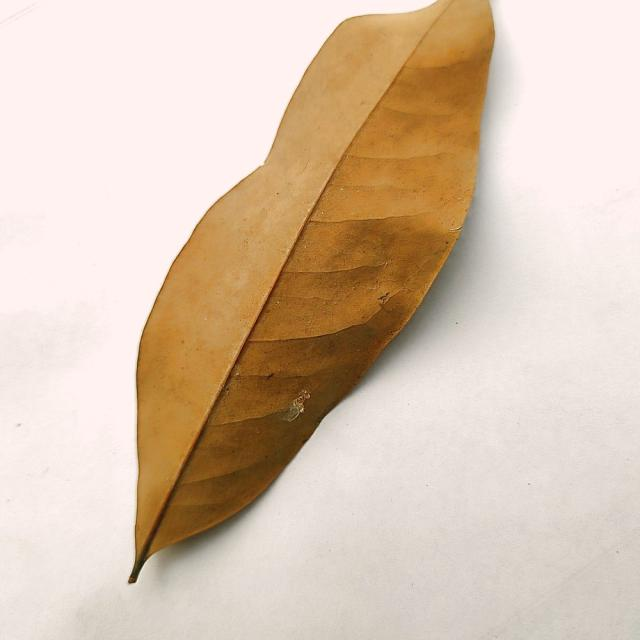Dry_Leaf-Lychee: (130, 0, 495, 584)
